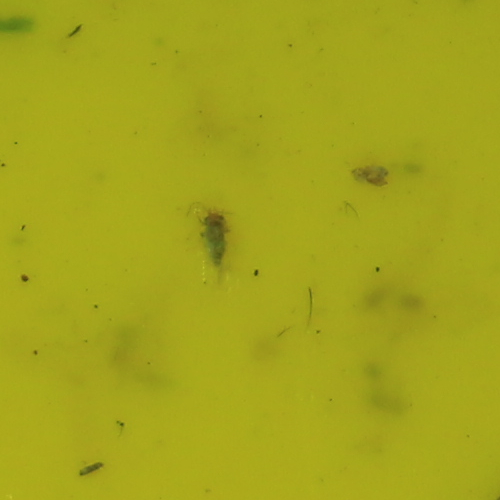Glycaspis: (193, 207, 231, 269)
